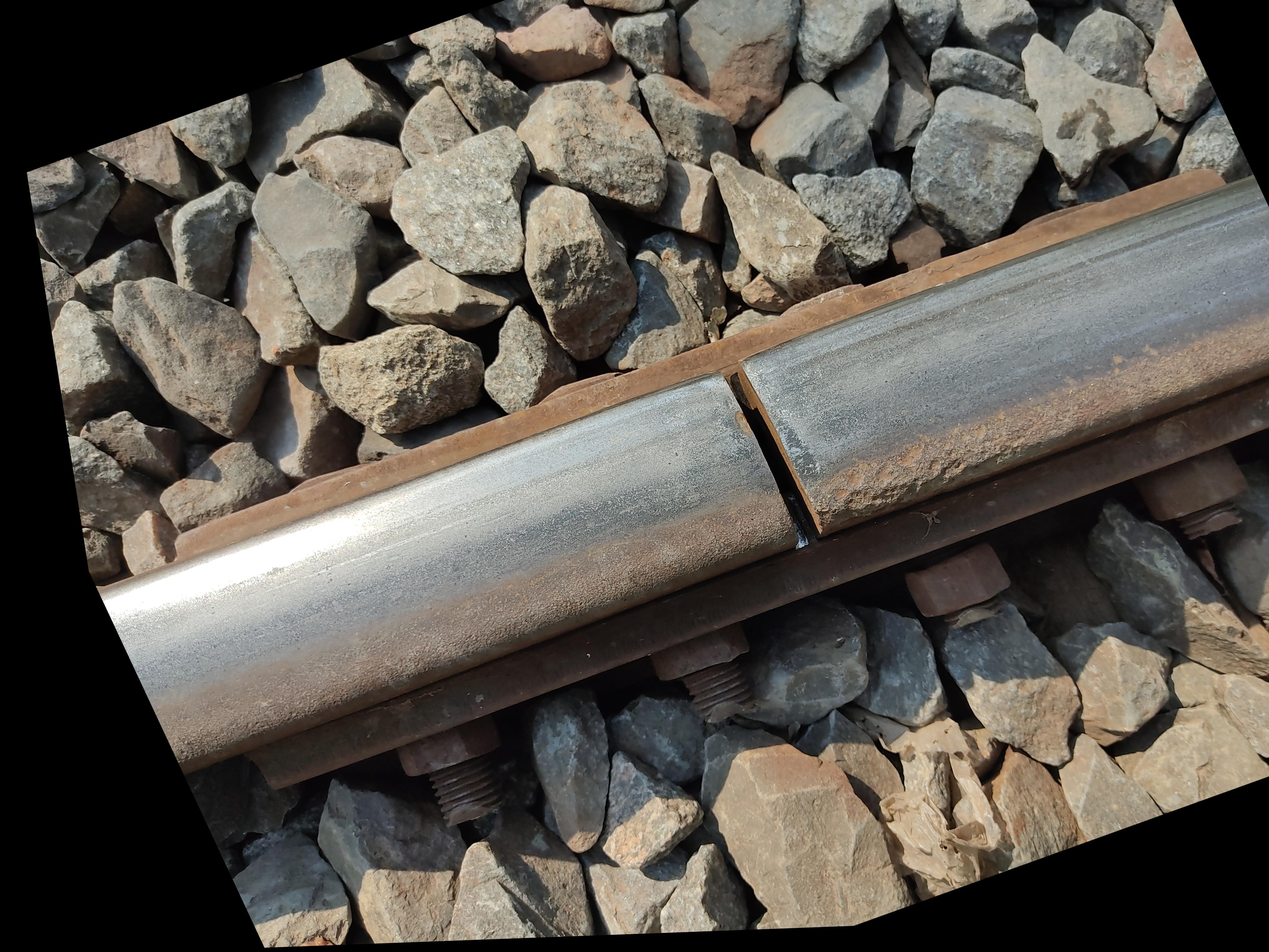person: (516, 507, 841, 815)
